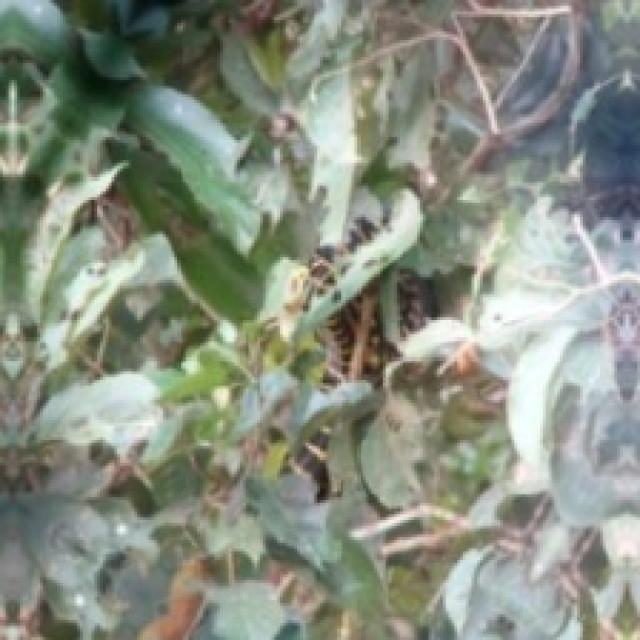mangrove cat snake: (320, 269, 439, 387), (289, 425, 331, 500)
